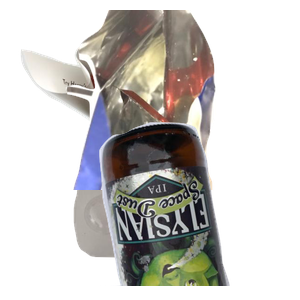glass: (97, 120, 300, 300)
paper: (18, 30, 213, 210)
plastic: (71, 169, 275, 300)
trash: (63, 10, 300, 190)
